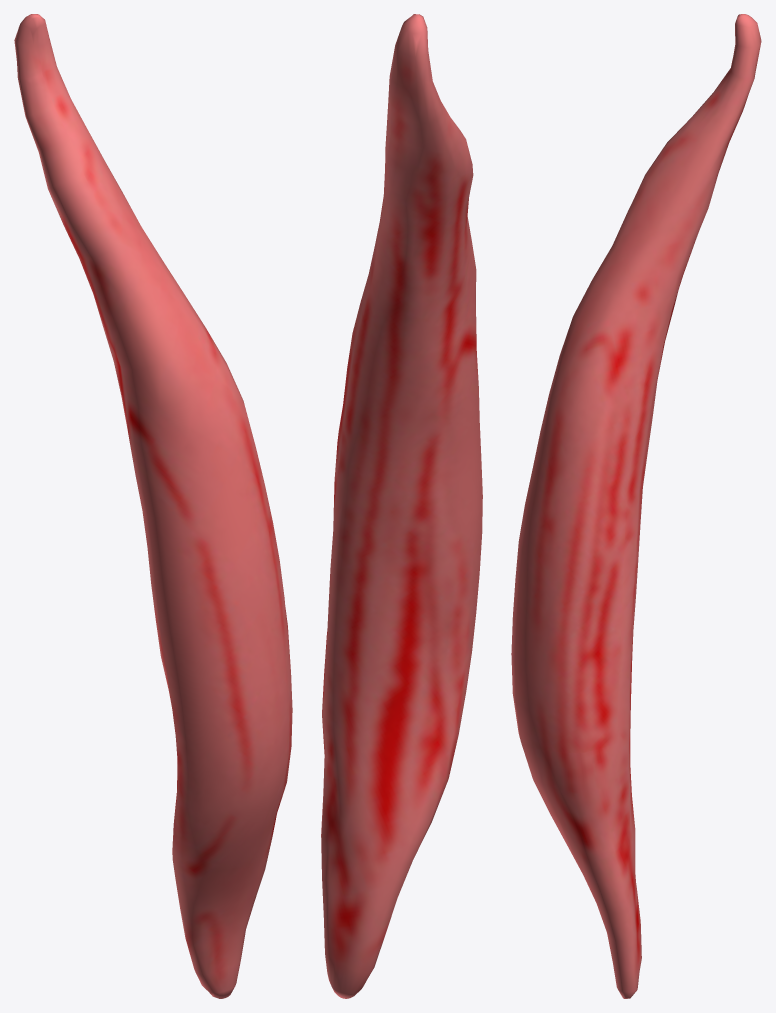
File: Flexor_Carpi_Ulnaris.glb
3 renders of one model, left to right at view 1: azimuth 30°, elevation 25°; view 2: azimuth 150°, elevation 25°; view 3: azimuth 270°, elevation 25°, orthographic. The views are drawn at different scales.
Visible parts, largest first — view 1: flexor_carpi_ulnaris1.005; view 2: flexor_carpi_ulnaris1.005; view 3: flexor_carpi_ulnaris1.005.
Part boxes in pixels (x1,y1,x2,y2): flexor_carpi_ulnaris1.005: [14, 14, 292, 998]; flexor_carpi_ulnaris1.005: [321, 14, 482, 998]; flexor_carpi_ulnaris1.005: [511, 14, 761, 998].
Bounding box in the file's own units: 0.0836 × 0.4243 × 0.104.
Materials: 1 (1 with a texture image).
